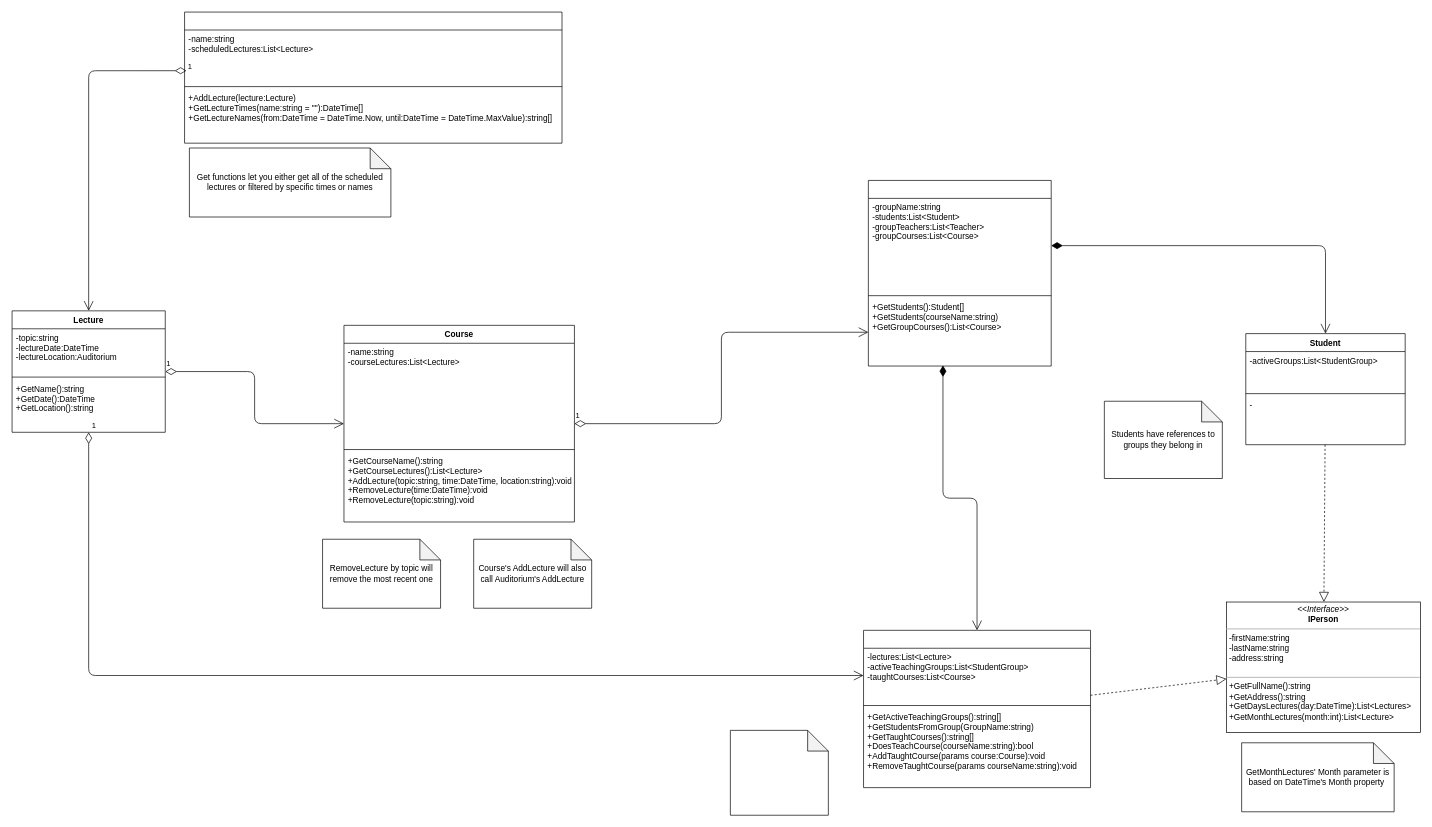
This 1432x827 diagram has some shape labels left out. The box of each missing label's shape, as (x1, y1, x2, y2) in pixels:
AddTaughtCourse and RemoveTaughtCourse can accept one or more courses at once: (730, 730, 828, 815)
Auditorium: (184, 11, 562, 143)
StudentGroup: (868, 180, 1051, 366)
Teacher: (863, 630, 1091, 788)
